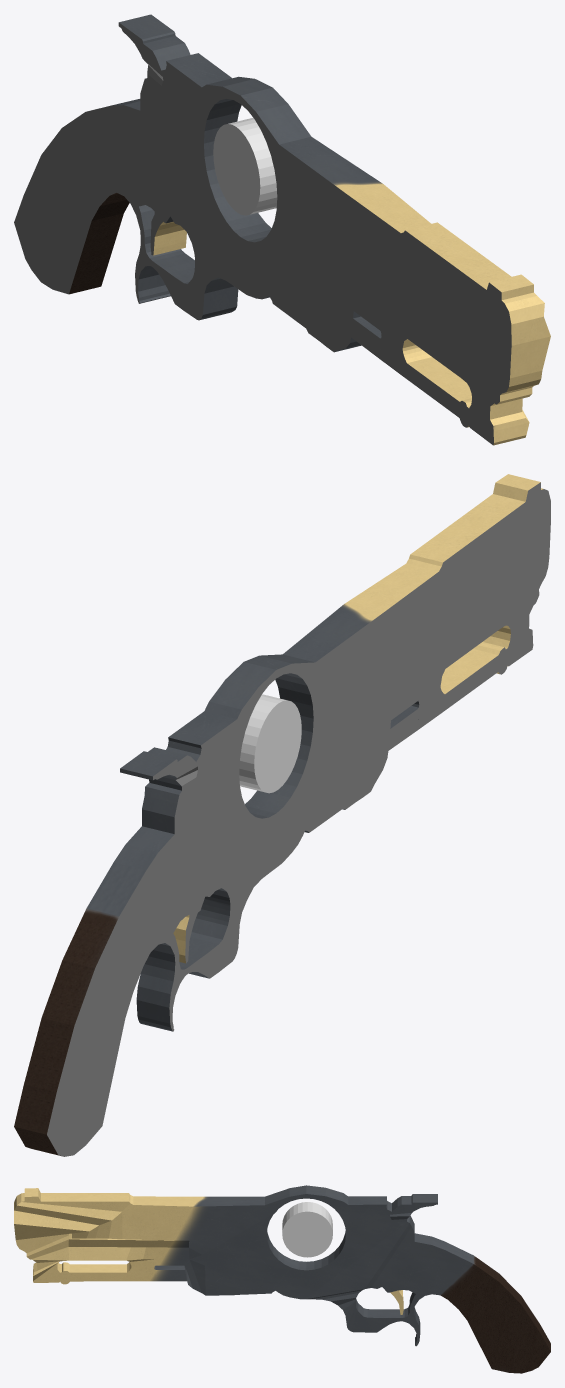
Rendered from sci-fi pistol model.fbx.
The picture shows the model from 3 angles, top to bottom: view 1: azimuth 30°, elevation 25°; view 2: azimuth 150°, elevation 25°; view 3: azimuth 270°, elevation 25°; orthographic projection. The views are drawn at different scales.
Parts seen in each view (by area): view 1: Plane, Cylinder; view 2: Plane, Cylinder; view 3: Plane, Cylinder.
Boxes of the visible parts, <box> form: Plane: <box>14,14,550,445</box>; Cylinder: <box>213,118,277,215</box>; Plane: <box>14,474,550,1156</box>; Cylinder: <box>239,694,301,793</box>; Plane: <box>14,1185,550,1373</box>; Cylinder: <box>282,1202,332,1257</box>.
Size of the model in its own units: 23.54 by 173 by 468.
Materials: 1 (1 with a texture image).
